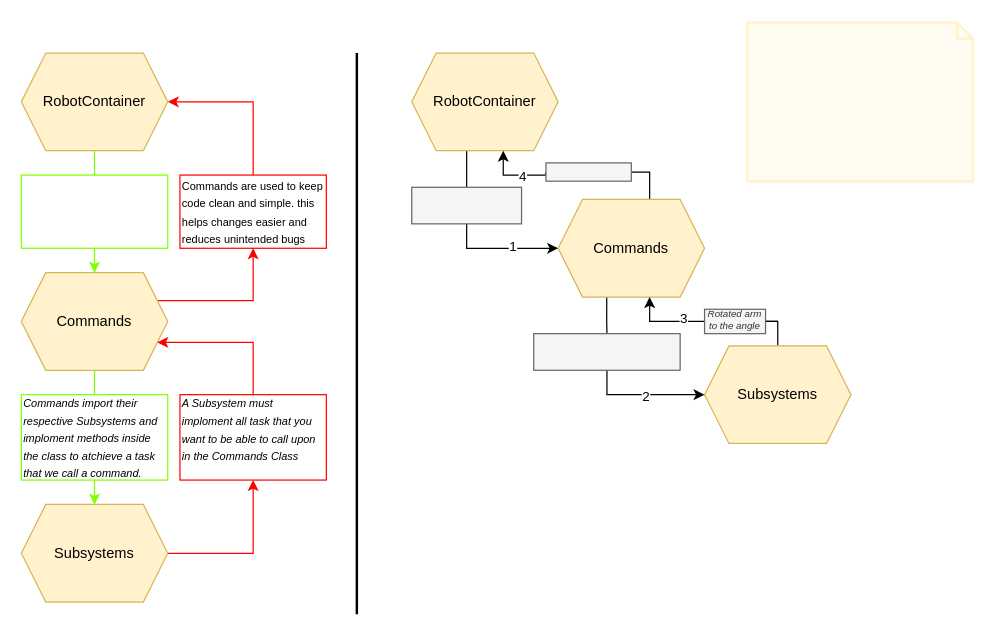
The diagram is 996 pixels wide and 636 high, and some of its shapes have lost their labels. Here are the shapes that lost their labels. From the top down, the centre of each, then its label:
At (x=859, y=101): "Note".
At (x=588, y=171): "Command ran".
At (x=94, y=211): "Houses keybindings/ commandbindings and calls to the Commands System".
At (x=466, y=205): "If 'A' is pressed, call command.armUp".
At (x=606, y=351): "Execute subsystem.arm.setAngle(max)".
